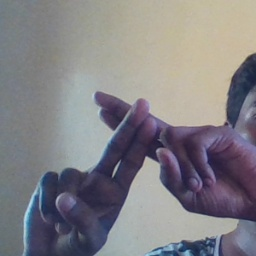F: (46, 77, 217, 205)
